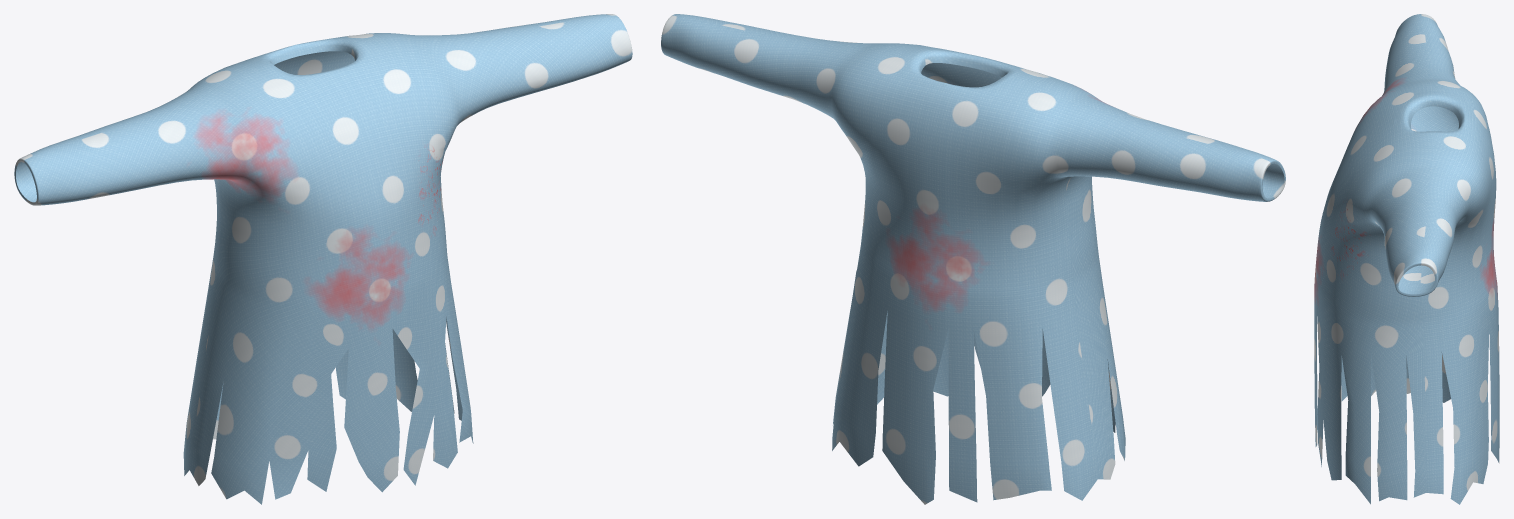
Rendered from Grace's ripped dress.fbx.
The picture shows the model from 3 angles, left to right: view 1: azimuth 30°, elevation 25°; view 2: azimuth 150°, elevation 25°; view 3: azimuth 270°, elevation 25°; orthographic projection. The views are drawn at different scales.
Parts seen in each view (by area): view 1: Ripped_dress1; view 2: Ripped_dress1; view 3: Ripped_dress1.
Part boxes in pixels (left/top/right/bottom): Ripped_dress1: left=14, top=14, right=632, bottom=504; Ripped_dress1: left=661, top=14, right=1285, bottom=504; Ripped_dress1: left=1314, top=14, right=1499, bottom=504.
Size of the model in its own units: 20.87 by 13.64 by 6.55.
Materials: 1 (1 with a texture image).
